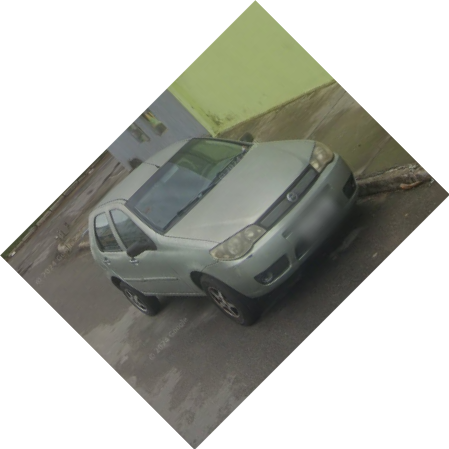car: (87, 135, 368, 327)
